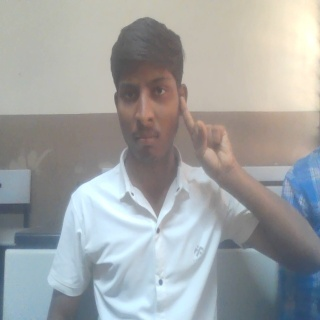Deaf: (179, 96, 243, 190)
Face: (106, 16, 190, 167)
